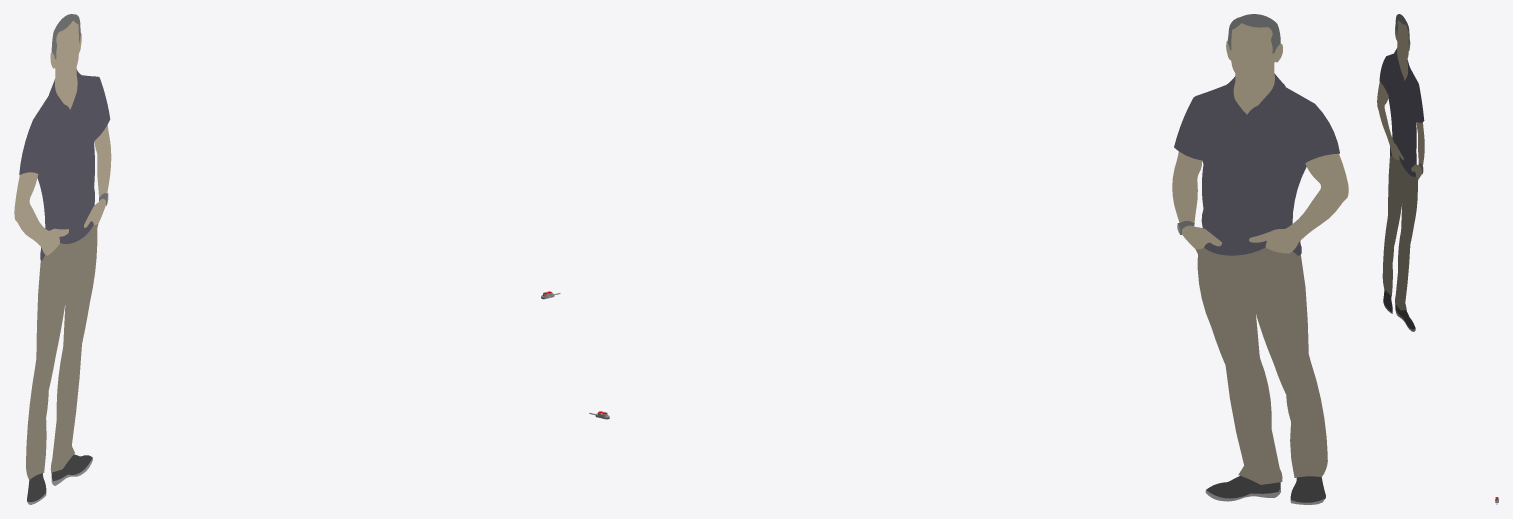
File: accesorio fotoelectrico.glb
3 renders of one model, left to right at view 1: azimuth 30°, elevation 25°; view 2: azimuth 150°, elevation 25°; view 3: azimuth 270°, elevation 25°, orthographic. The views are drawn at different scales.
Parts seen in each view (by area): view 1: Geom3D (×4); view 2: Geom3D (×5); view 3: Geom3D (×5).
Part boxes in pixels (box(x1,y1,x2,y2)): Geom3D (×4): box(14, 20, 111, 502); Geom3D (×5): box(1172, 14, 1348, 502); Geom3D (×5): box(1377, 14, 1424, 329).
Size of the model in its own units: 2.51 by 1.77 by 0.6319.
